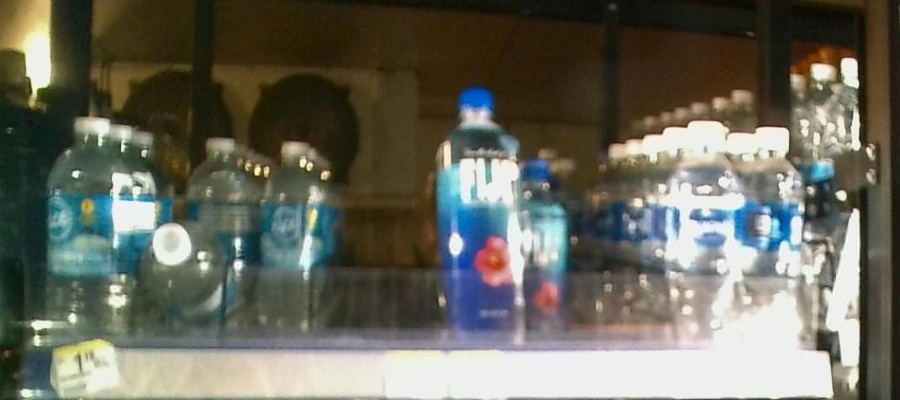bottle: (438, 84, 524, 359), (46, 107, 125, 371), (675, 120, 749, 340), (754, 122, 806, 345), (261, 140, 318, 339), (139, 223, 234, 331), (527, 157, 575, 337)
